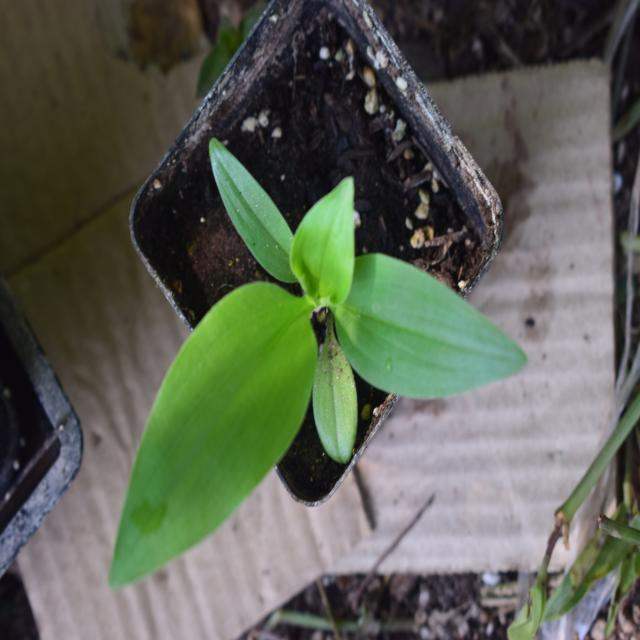Common Dayflower: (72, 122, 531, 576)
